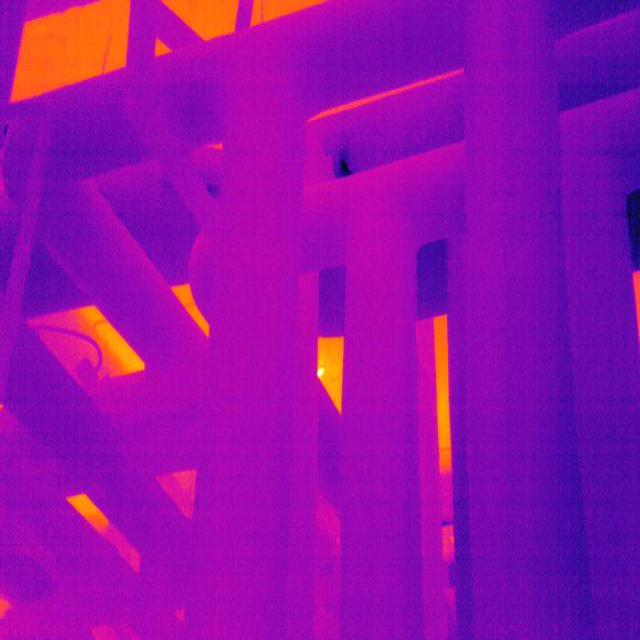leakage: (333, 142, 357, 179)
